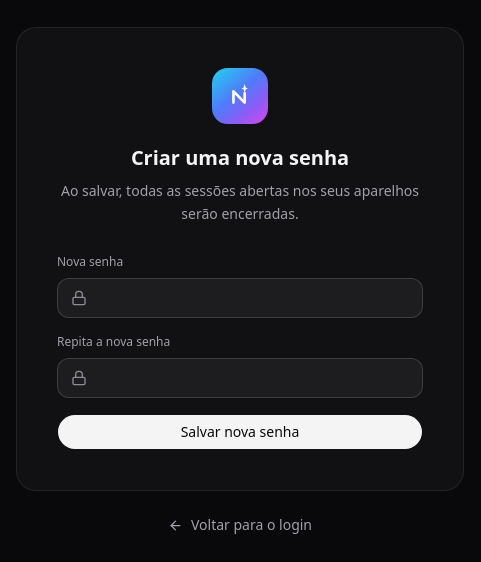
Redefinir senha › recusa senha fraca sem gastar o link
Type "semnumero" into the password field labelled "Nova senha" at (240, 298), box [57, 278, 423, 318]
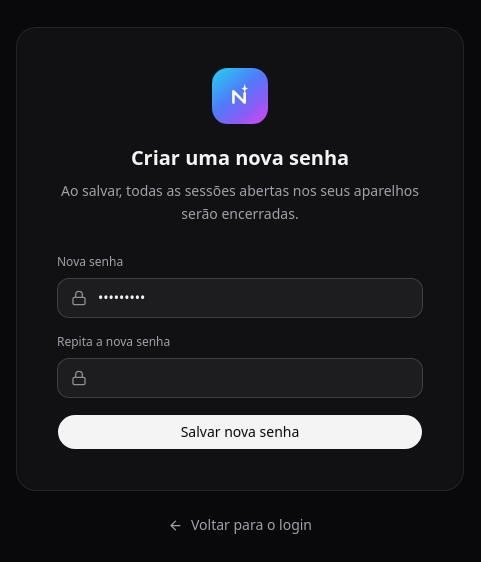
Type "semnumero" into the password field labelled "Repita a nova senha" at (240, 378), box [57, 358, 423, 398]
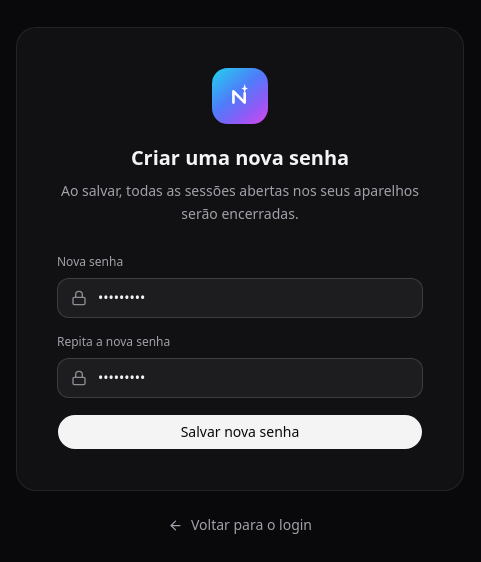
Click the button "Salvar nova senha" at (240, 432), box [57, 414, 423, 450]
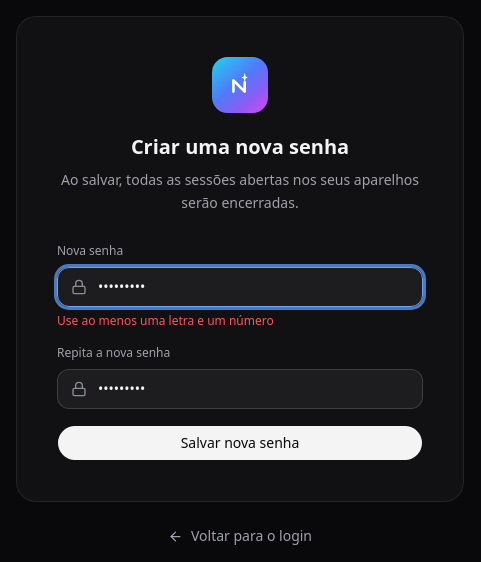
Expected: the text "Use ao menos uma letra e um número" is shown, [57, 312, 274, 329]
